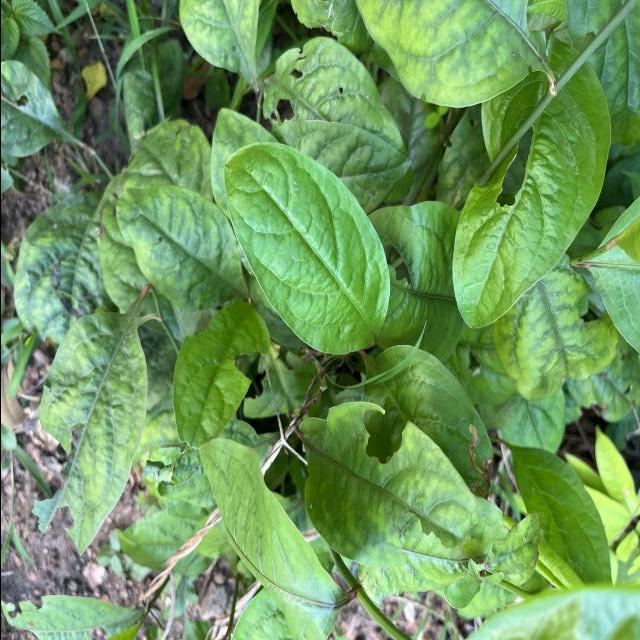Plumbago indica: (450, 40, 614, 331), (220, 139, 392, 359)
